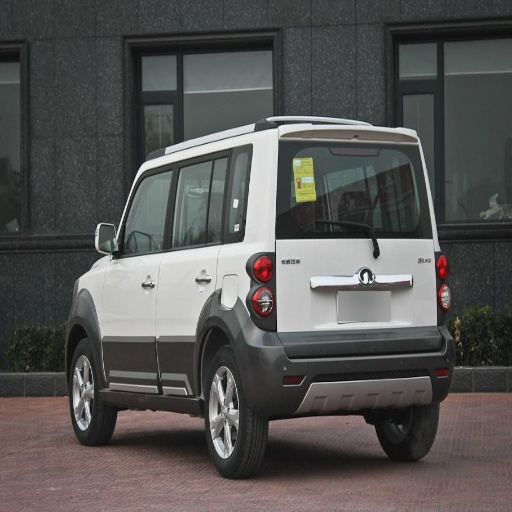back_bumper: (246, 325, 452, 415)
back_glass: (279, 185, 422, 236)
back_left_door: (159, 149, 230, 390), (331, 141, 407, 175)
trunk: (277, 240, 438, 353)
